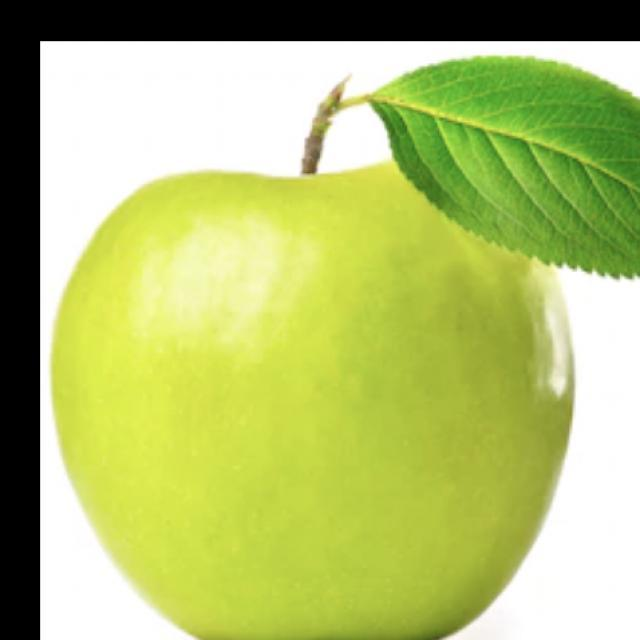Fresh Apple: (72, 170, 575, 640)
